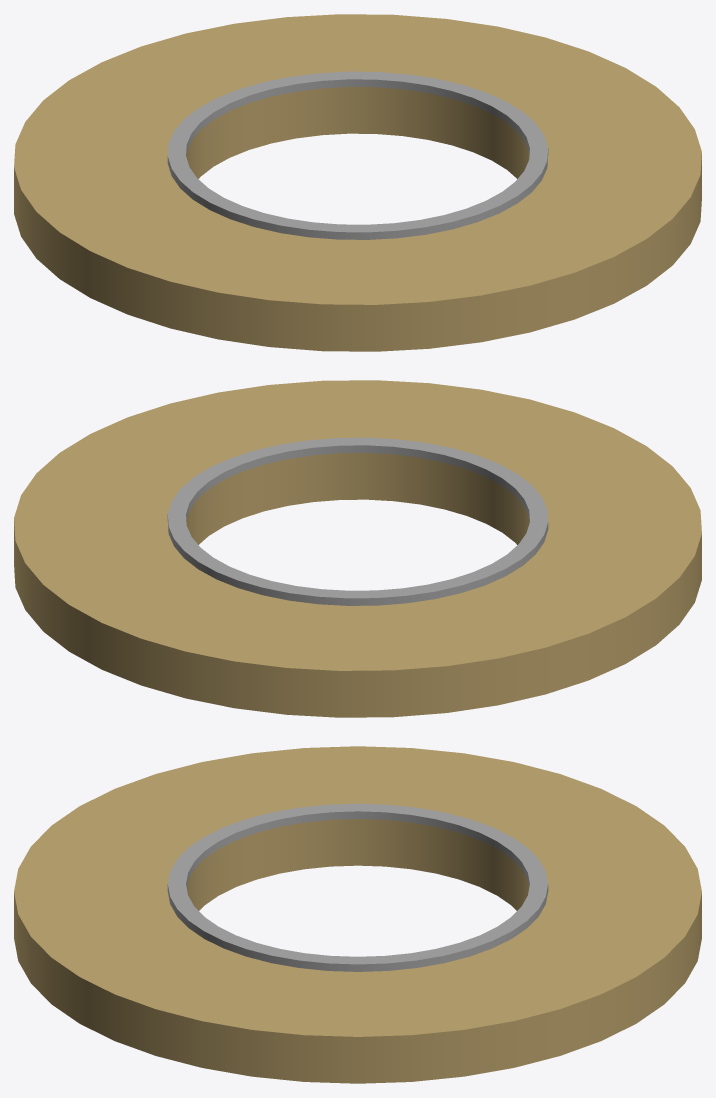
The model's file is Ring4.fbx.
3 renders of one model, top to bottom at view 1: azimuth 30°, elevation 25°; view 2: azimuth 150°, elevation 25°; view 3: azimuth 270°, elevation 25°, orthographic.
Visible parts, largest first — view 1: Ring4; view 2: Ring4; view 3: Ring4.
Boxes of the visible parts, left/top/right/bottom form: Ring4: left=14, top=14, right=701, bottom=351; Ring4: left=14, top=380, right=701, bottom=717; Ring4: left=14, top=746, right=701, bottom=1083.
Bounding box in the file's own units: 40 × 3.48 × 40.
